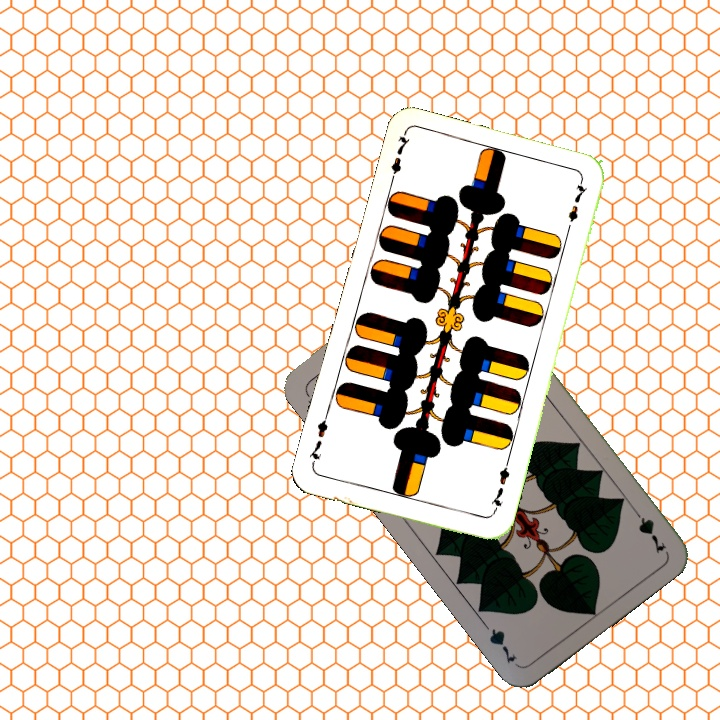E7: (385, 130, 413, 188), (486, 458, 512, 516)
G7: (627, 502, 669, 556)
